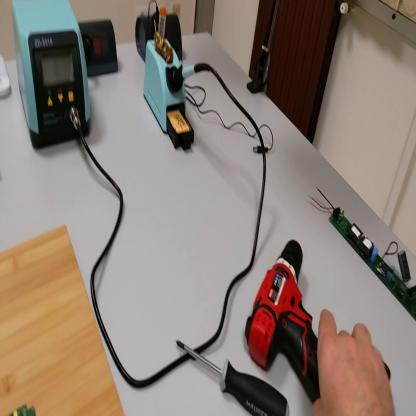electric screwdriver: (245, 236, 392, 403)
hand: (313, 310, 396, 416)
high voltage board: (309, 187, 416, 319)
low voltage board: (9, 403, 37, 414)
screwdriver-: (176, 343, 293, 416)
socket: (135, 13, 183, 66), (79, 18, 122, 76)
welder base: (144, 6, 198, 155)
welder probe tip: (175, 62, 211, 82)
welder station: (12, 2, 93, 155)
working area: (2, 220, 125, 415)
